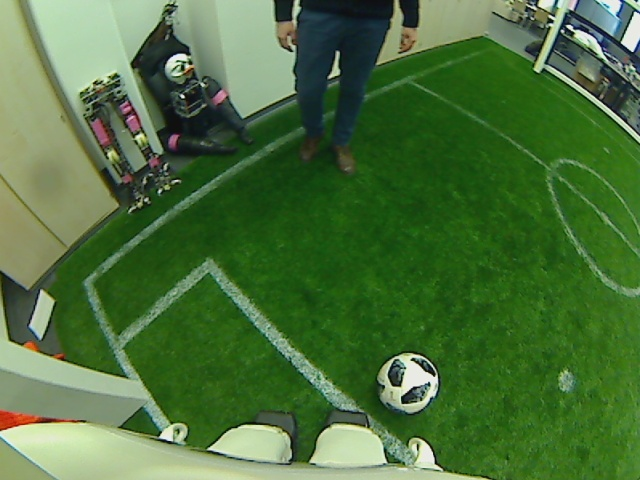ball: (374, 348, 440, 416)
